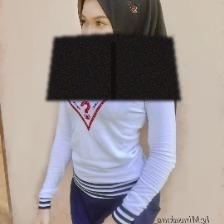Cadar_Niqab: (45, 0, 180, 100)
